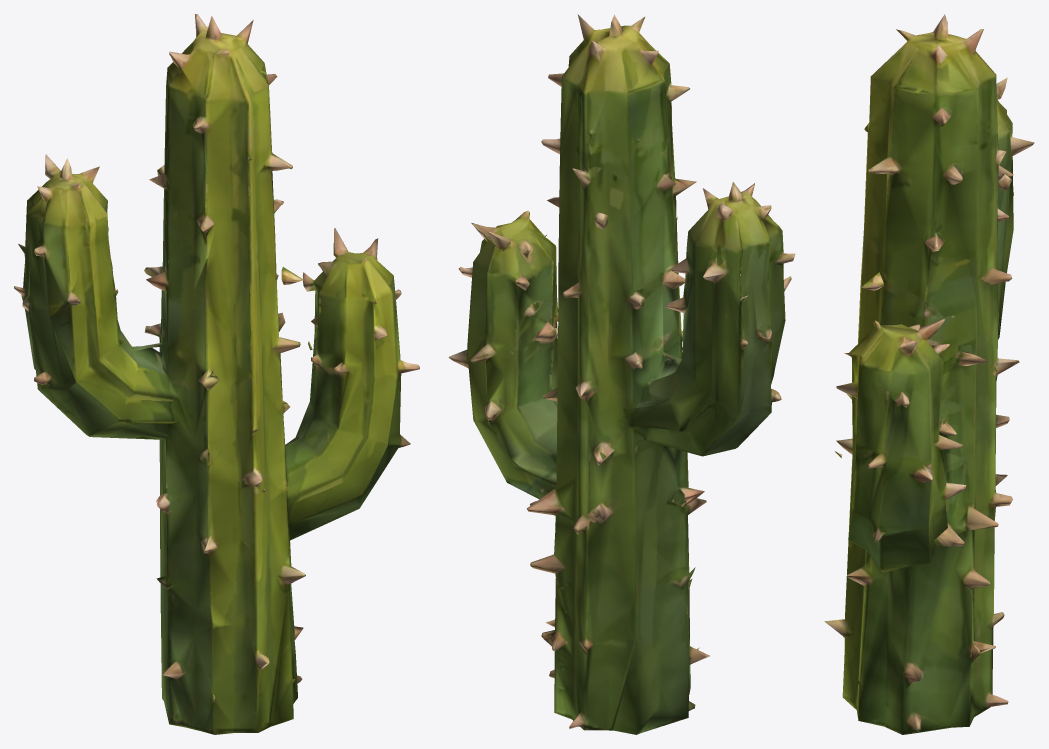
File: tree_desert_saguaro.glb
The picture shows the model from 3 angles, left to right: view 1: azimuth 30°, elevation 25°; view 2: azimuth 150°, elevation 25°; view 3: azimuth 270°, elevation 25°; orthographic projection. The views are drawn at different scales.
Parts seen in each view (by area): view 1: BakeLow; view 2: BakeLow; view 3: BakeLow.
Part boxes in pixels (box(x1,y1,x2,y2)): BakeLow: box(14, 14, 419, 734); BakeLow: box(448, 14, 795, 734); BakeLow: box(824, 14, 1034, 734).
Bounding box in the file's own units: 0.4731 × 0.8902 × 0.2464.
Materials: 1 (1 with a texture image).
